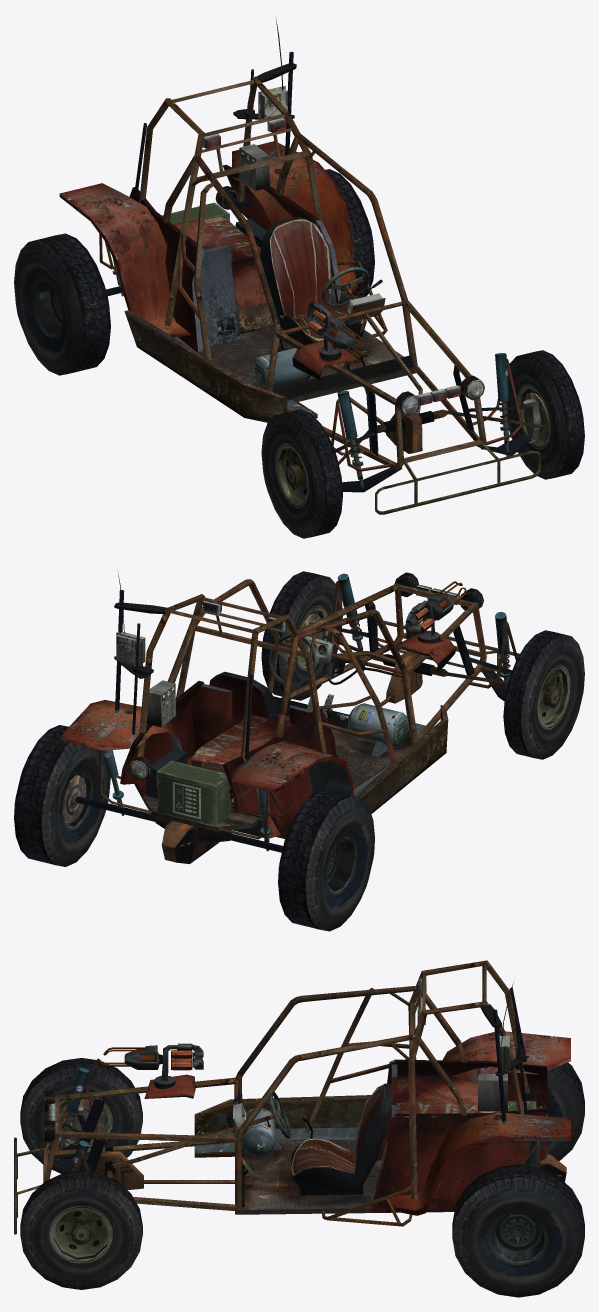
The model's file is hl2_scoutcar.glb.
3 renders of one model, top to bottom at view 1: azimuth 30°, elevation 25°; view 2: azimuth 150°, elevation 25°; view 3: azimuth 270°, elevation 25°, orthographic. The views are drawn at different scales.
Visible parts, largest first — view 1: buggy_reference, tau_reference; view 2: buggy_reference, tau_reference; view 3: buggy_reference, tau_reference.
Part boxes in pixels (x1,y1,x2,y2): buggy_reference: (14,16,584,538); tau_reference: (307,302,367,358); buggy_reference: (14,571,584,931); tau_reference: (405,581,466,638); buggy_reference: (14,960,584,1297); tau_reference: (97,1043,203,1070).
Size of what is drawn, in the model's own units: 1.04 by 0.9924 by 1.77.
2 materials, 2 textured.
